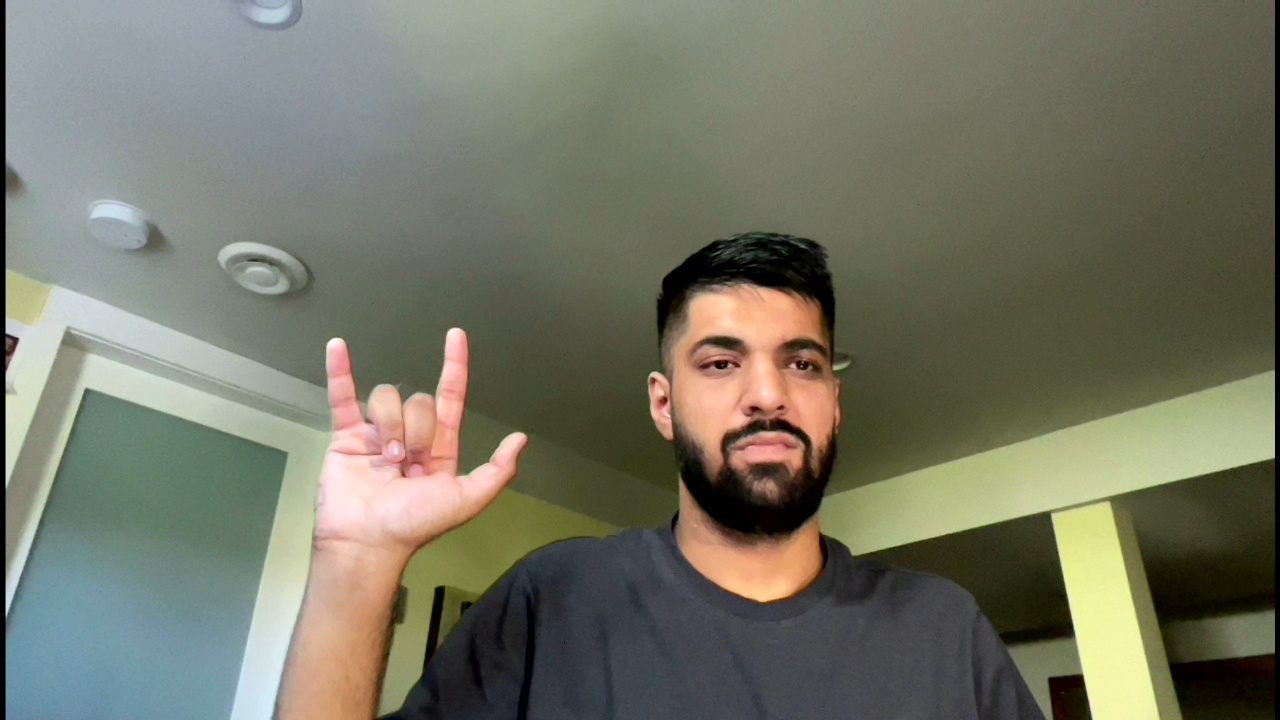HowYouDoing!: (286, 320, 541, 566)
